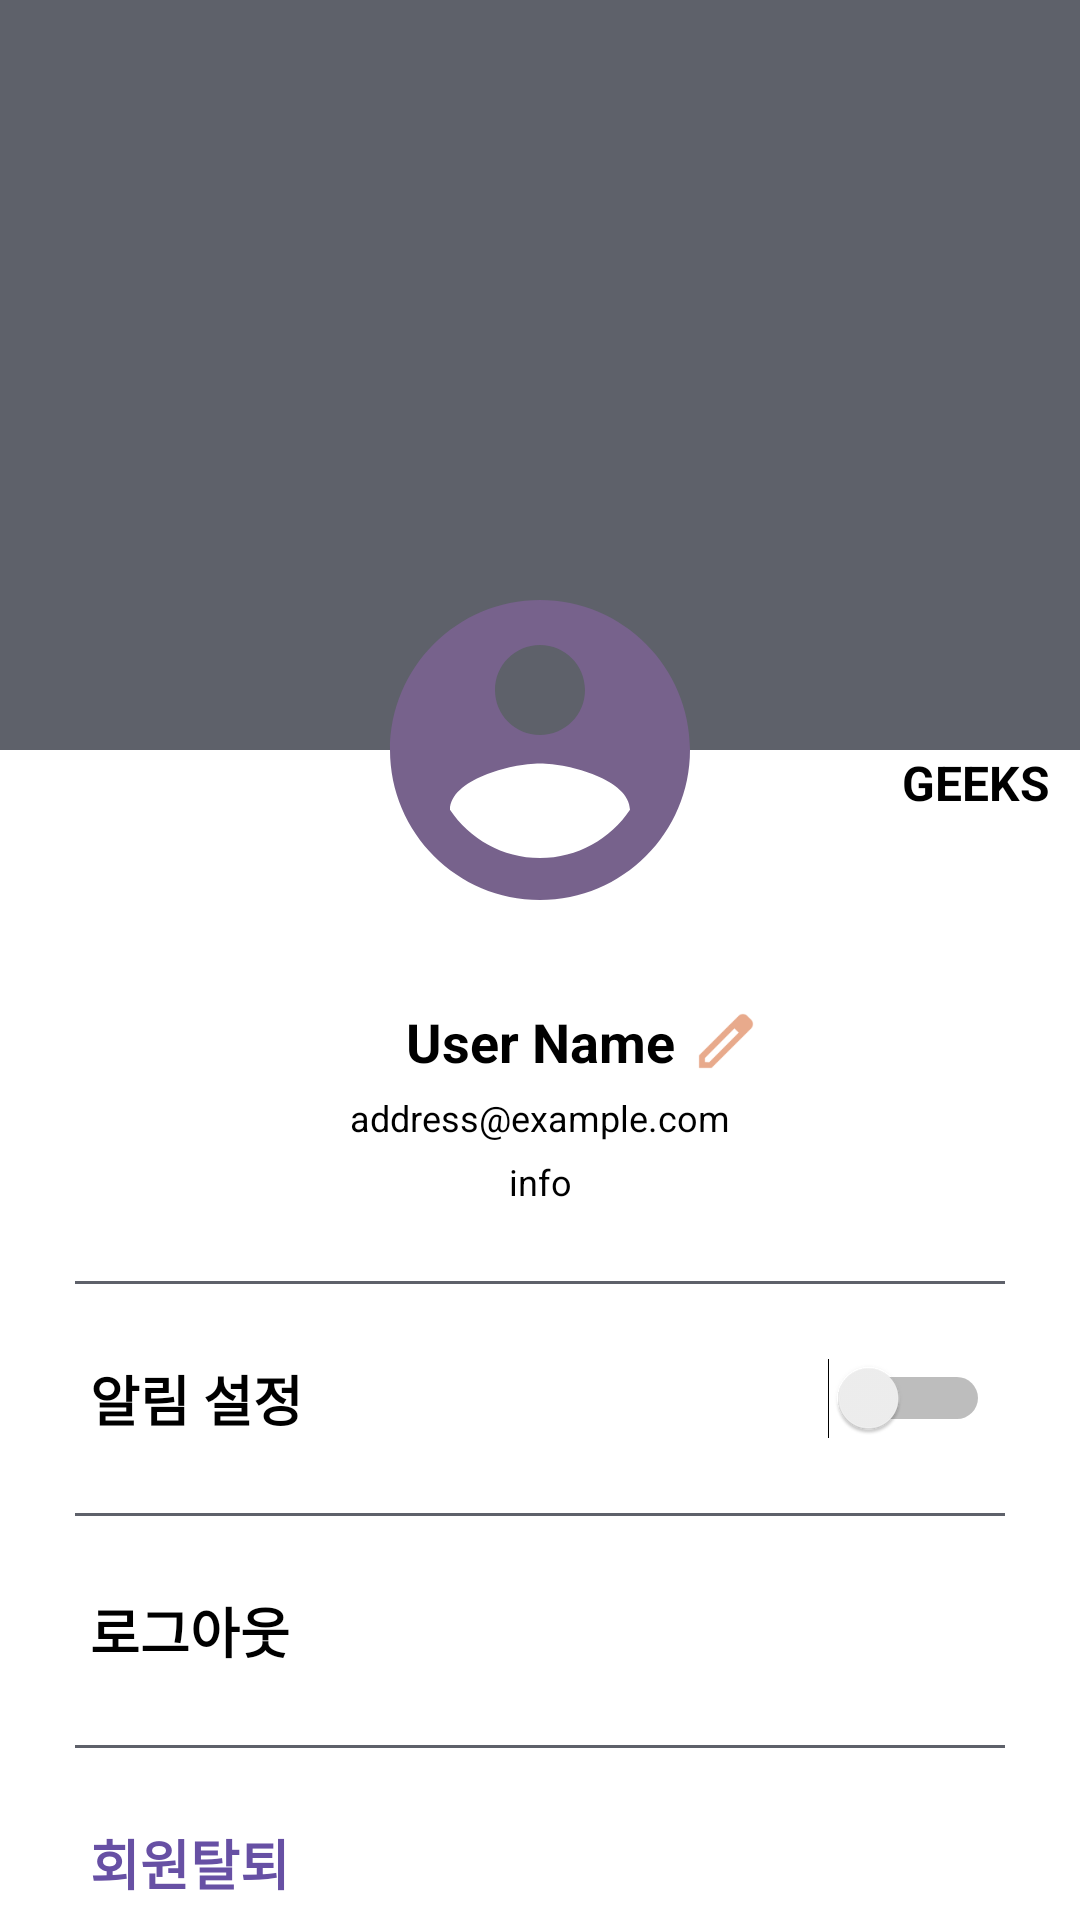

Named icons in this screenshot (1080px×1920px) and their centers, [x,y]:
account circle: [540,750]
